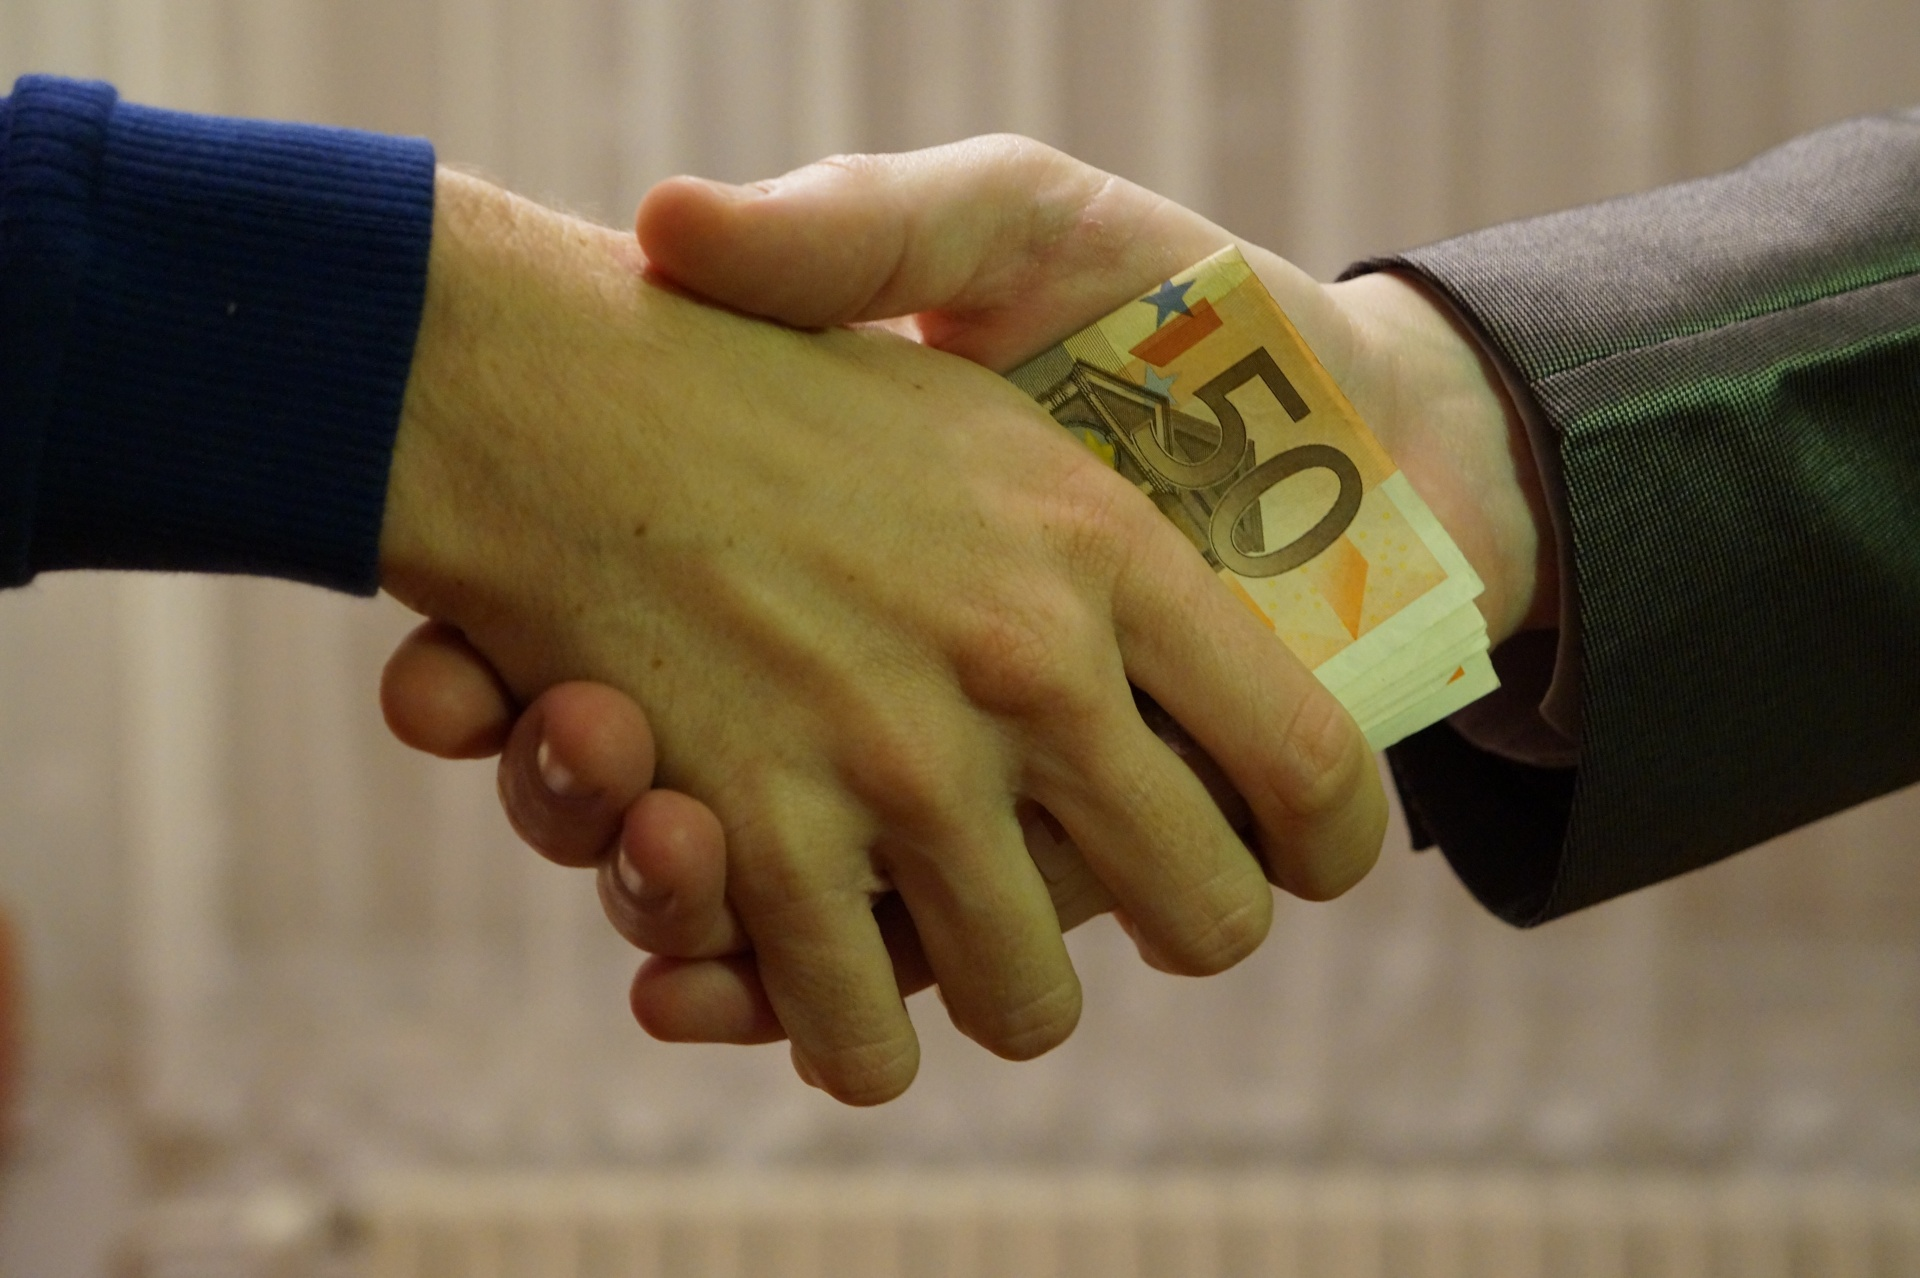billete: (956, 240, 1515, 954)
